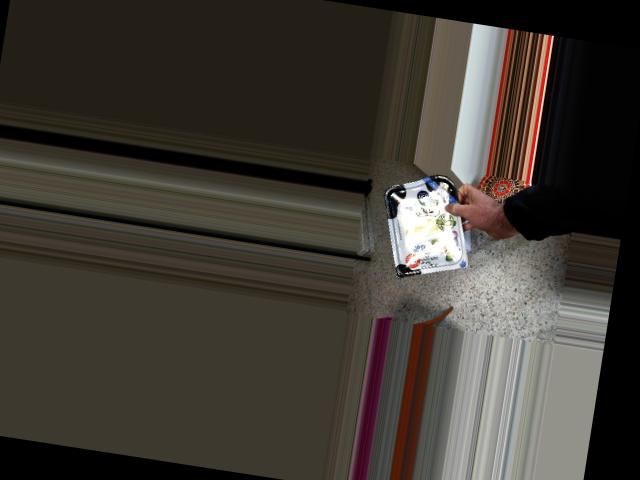cheese: (384, 174, 463, 272)
